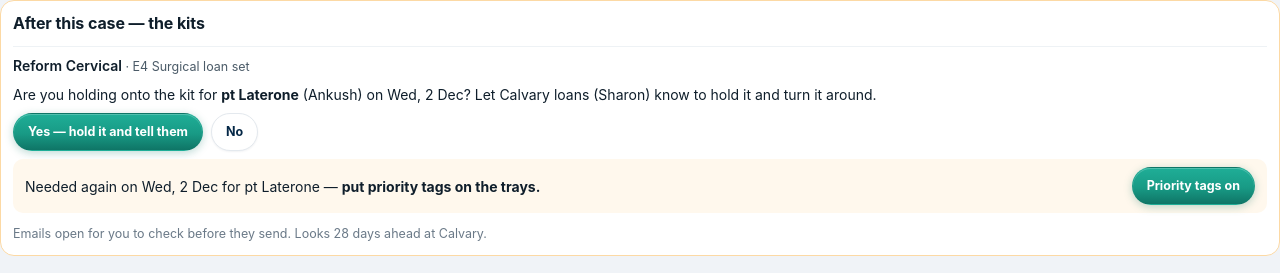
Test: the kit after the case › asks to hold the kit for the next case, drafts the hospital email, and asks for priority tags
Later steps or results of the test are not shown.
Expected: the element that starts with "Needed again" shows "put priority tags on the trays", [342,178,540,195]
Step 1. Click the button "Yes — hold it and tell them" → (108, 132), box [13,113,203,151]
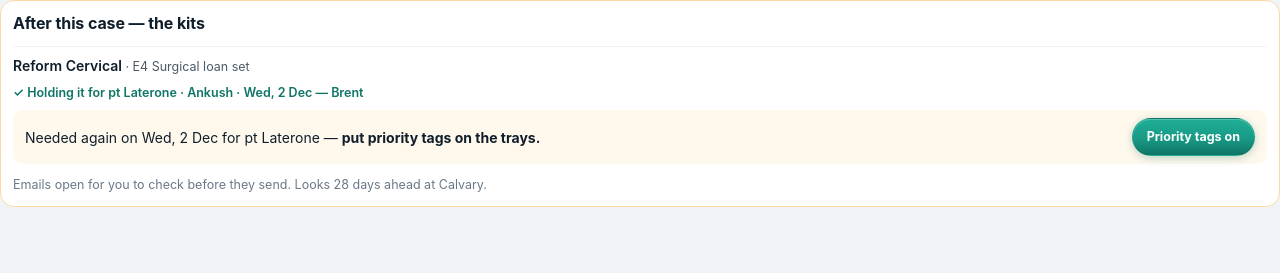
Result: the text "✓ Holding it for pt Laterone · Ankush · Wed, 2 Dec — Brent" is shown at [13,85,364,100]
